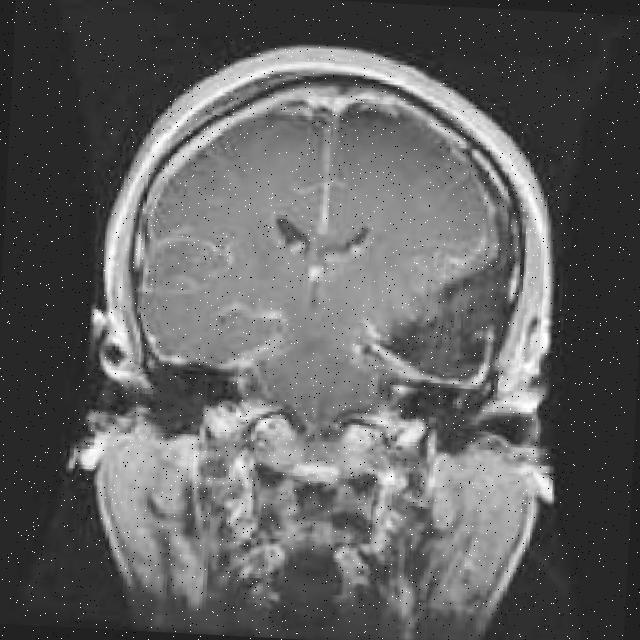EMCI: (375, 286, 542, 426), (112, 232, 258, 316)
